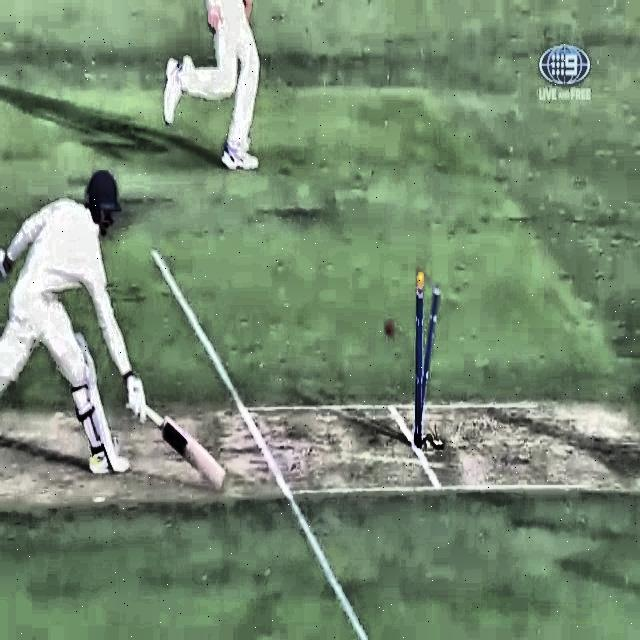Ball: (377, 310, 402, 345)
Bat: (117, 378, 232, 495)
Dis_Wicket: (408, 270, 447, 461)
Pitch_Line: (150, 245, 367, 640)
